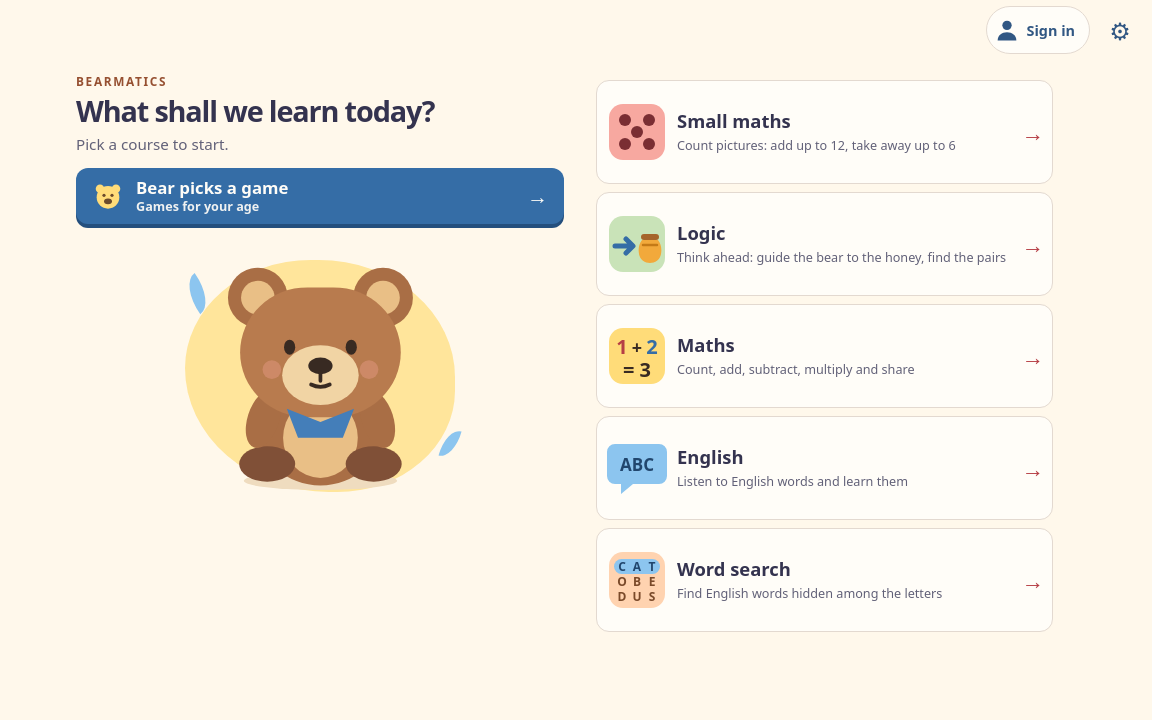
it: age screen and next-game screen › opens straight on the next-game screen with the remembered age and count
Click the button "Bear picks a game Games for your age →" at (108, 196), box [76, 168, 564, 224]
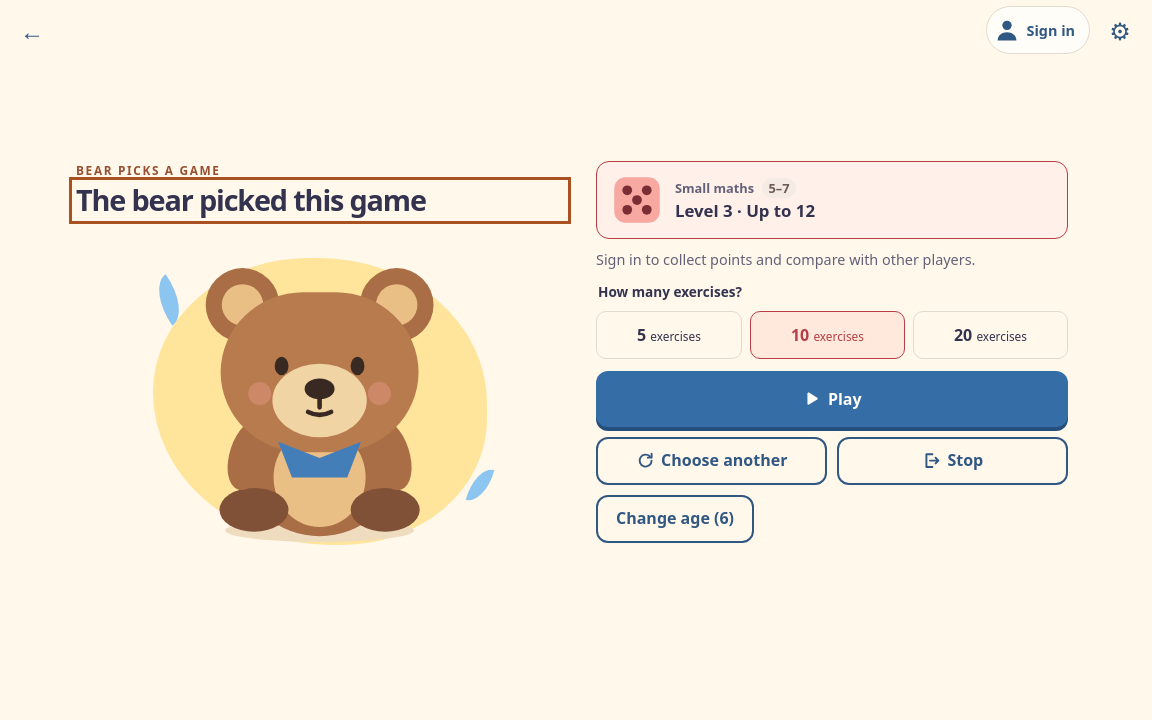
Check: the heading reads "The bear picked this game", box [76, 180, 426, 219]
Check: the radio button labelled "10 exercises" is checked, box [750, 311, 905, 359]
Check: the button "Change age (6)" is shown, box [596, 495, 754, 543]
